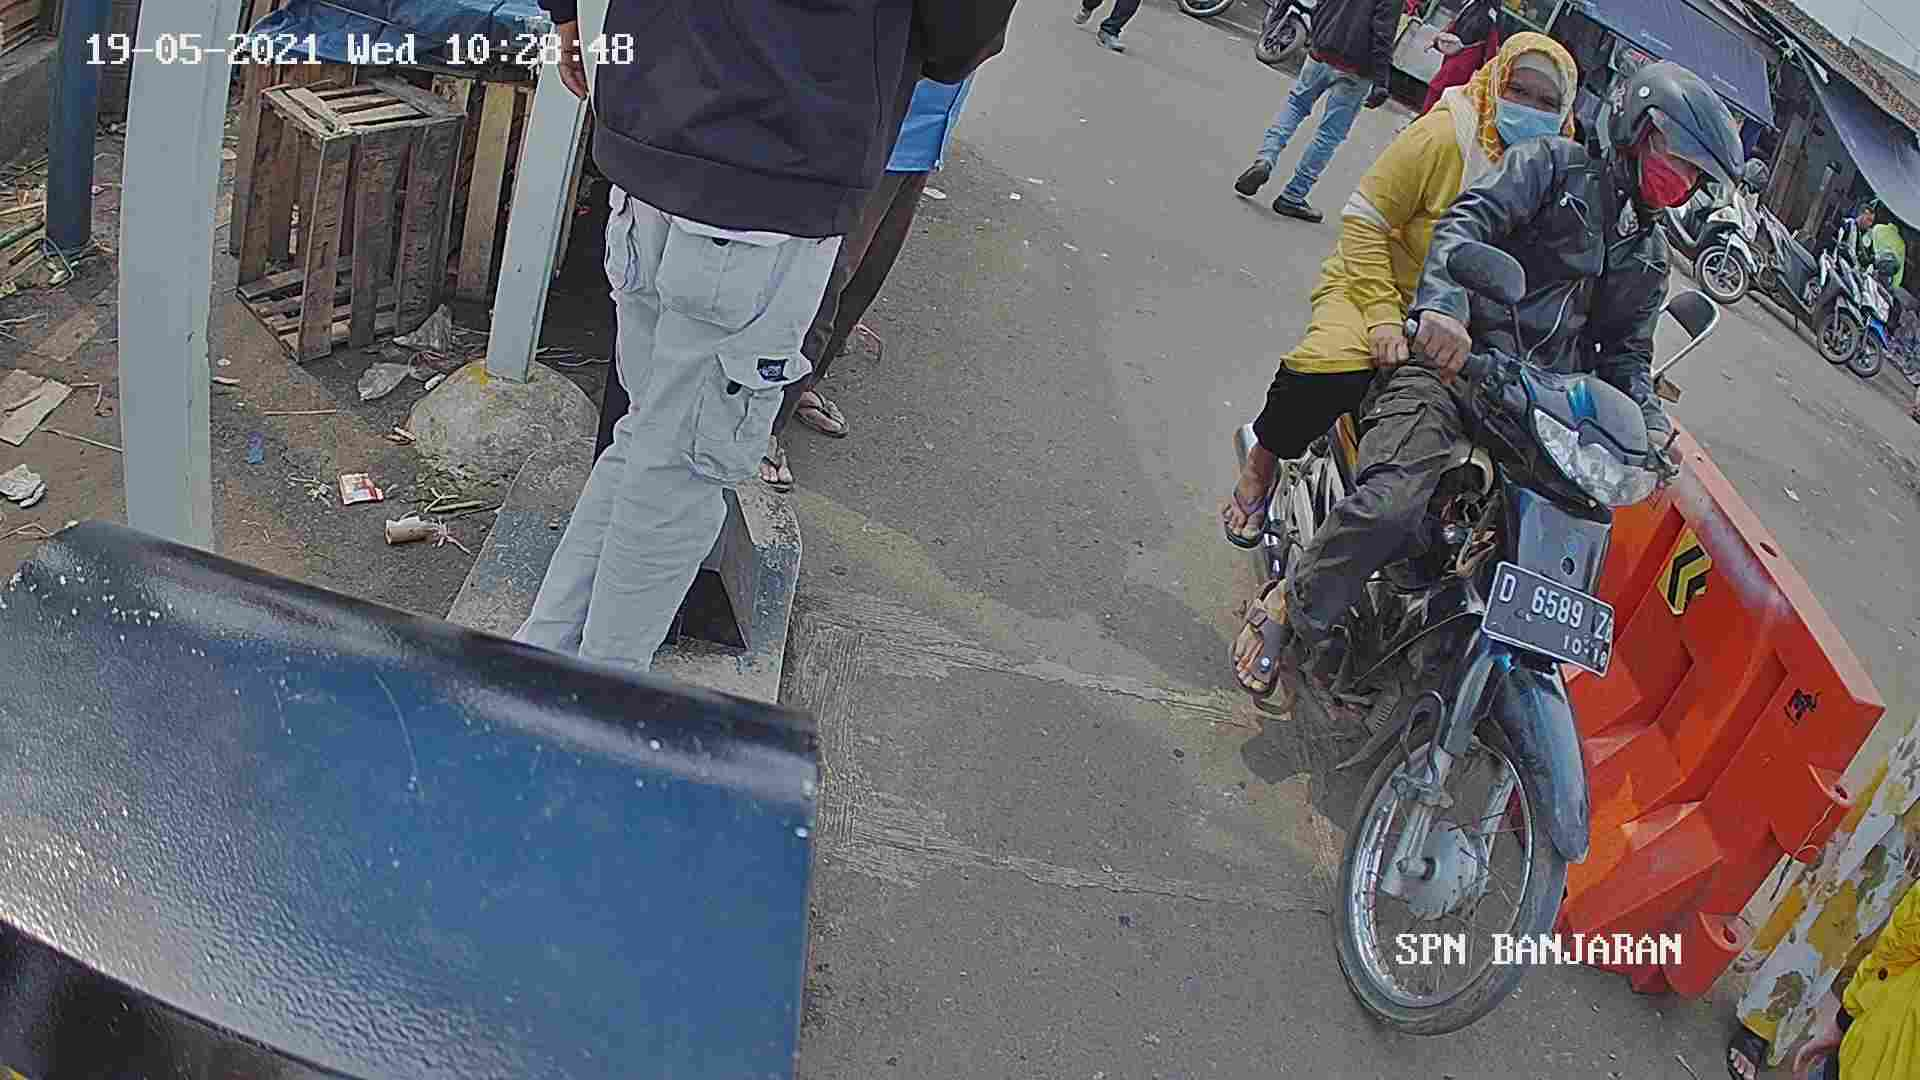motor: (1283, 291, 1660, 1040)
